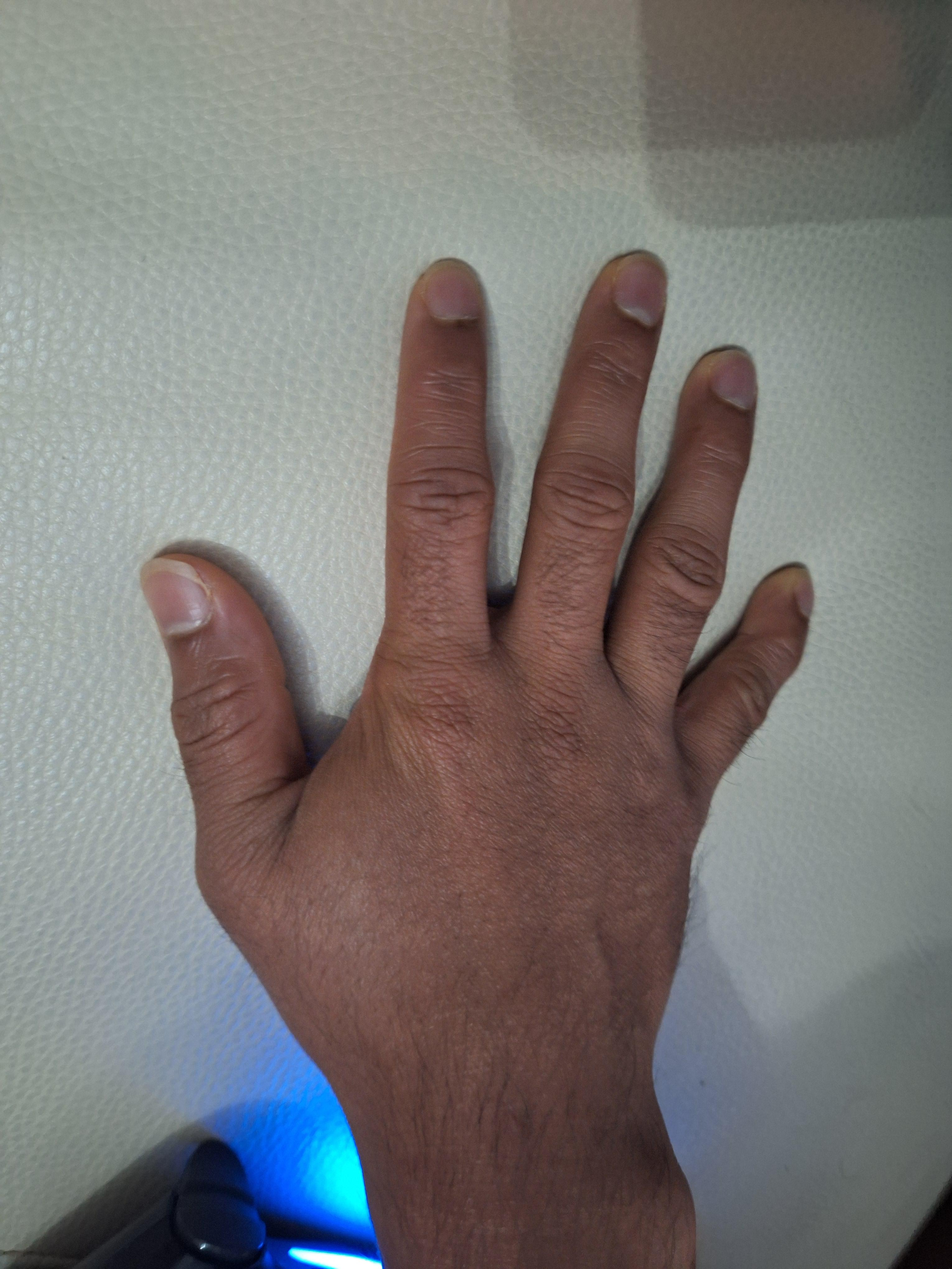Fingernail: (138, 558, 212, 635), (418, 259, 481, 320), (614, 254, 666, 327), (709, 350, 756, 409), (795, 571, 815, 621)
